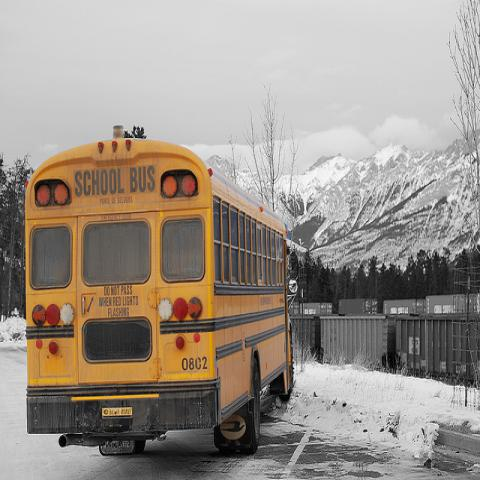bus: (23, 132, 297, 459)
